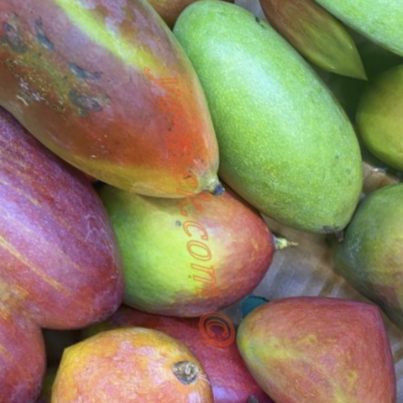mango: (104, 0, 403, 284), (47, 109, 331, 389), (2, 0, 294, 267), (0, 103, 207, 385)
